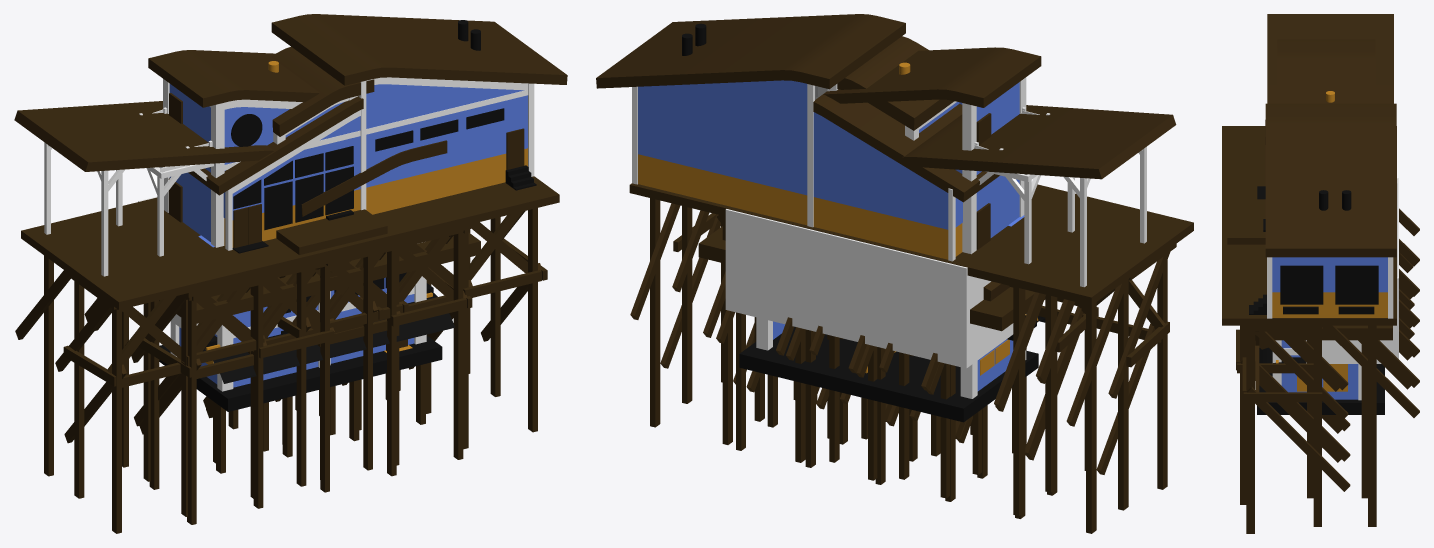
The model's file is houses_2.fbx.
The picture shows the model from 3 angles, left to right: view 1: azimuth 30°, elevation 25°; view 2: azimuth 150°, elevation 25°; view 3: azimuth 270°, elevation 25°; orthographic projection. The views are drawn at different scales.
Parts seen in each view (by area): view 1: Box063, Object001, Box145, Box106, Box097, Object010; view 2: Box063, Box097, Object001, Box106, Box145, Object010; view 3: Box063, Object001, Box106, Box145, Box097, Object010.
Boxes of the visible parts, <box> form: Box063: <box>14,14,567,533</box>; Object001: <box>95,50,477,524</box>; Box145: <box>228,47,387,486</box>; Box106: <box>159,140,447,411</box>; Box097: <box>138,196,454,383</box>; Object010: <box>159,233,480,323</box>; Box063: <box>596,14,1193,533</box>; Box097: <box>725,209,1045,368</box>; Object001: <box>716,47,1098,518</box>; Box106: <box>739,281,1038,422</box>; Box145: <box>809,36,972,479</box>; Object010: <box>698,226,1045,331</box>; Box063: <box>1222,14,1419,533</box>; Object001: <box>1236,39,1413,504</box>; Box106: <box>1257,340,1384,414</box>; Box145: <box>1227,91,1414,339</box>; Box097: <box>1259,178,1398,363</box>; Object010: <box>1255,325,1392,340</box>.
Bounding box in the file's own units: 2777 × 2225 × 1104.
